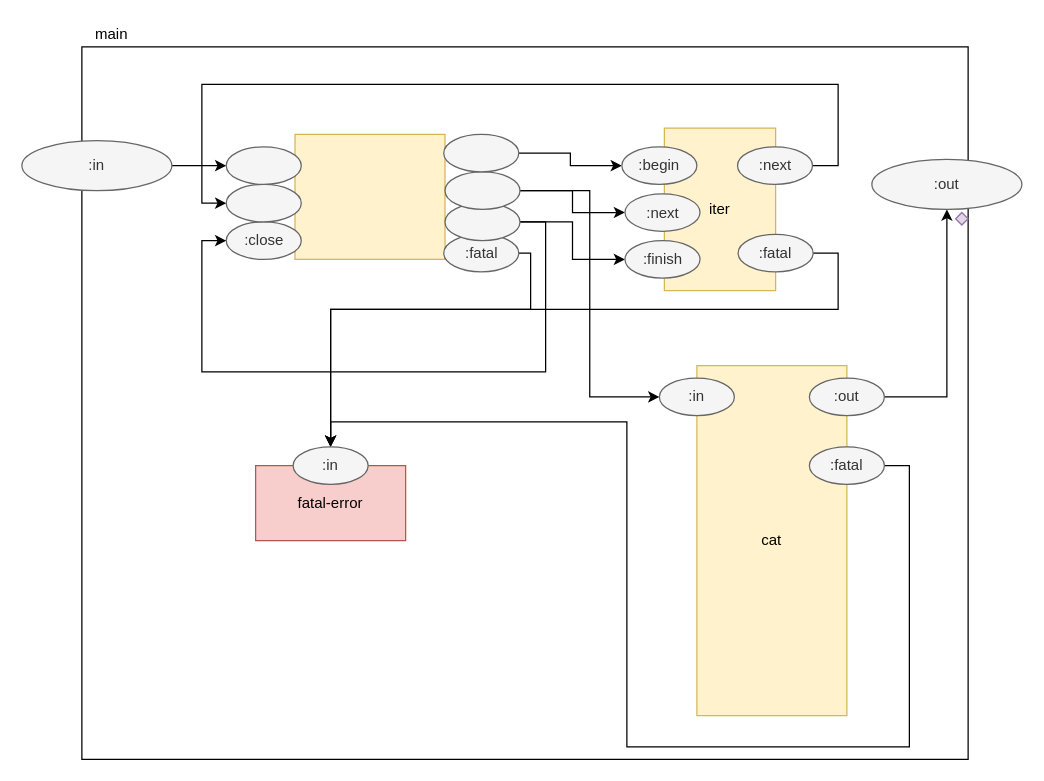
This 1044x781 diagram has some shape labels left out. Here are the shapes that lost their labels. From the top down, the centre of each, then its label:
At (x=263, y=165): ":file-name".
At (x=480, y=152): ":stream".
At (x=263, y=202): ":read".
At (x=369, y=196): "file-stream".
At (x=482, y=190): ":object".
At (x=482, y=221): ":done".
